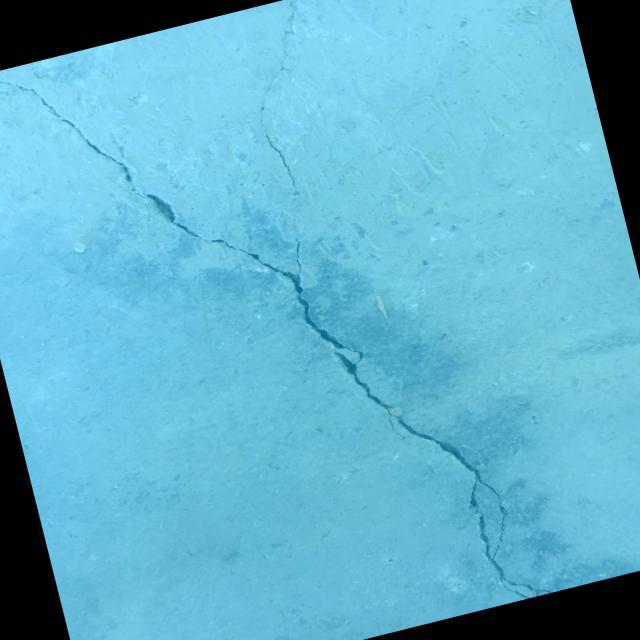crack: (0, 0, 551, 640), (265, 132, 296, 189)
